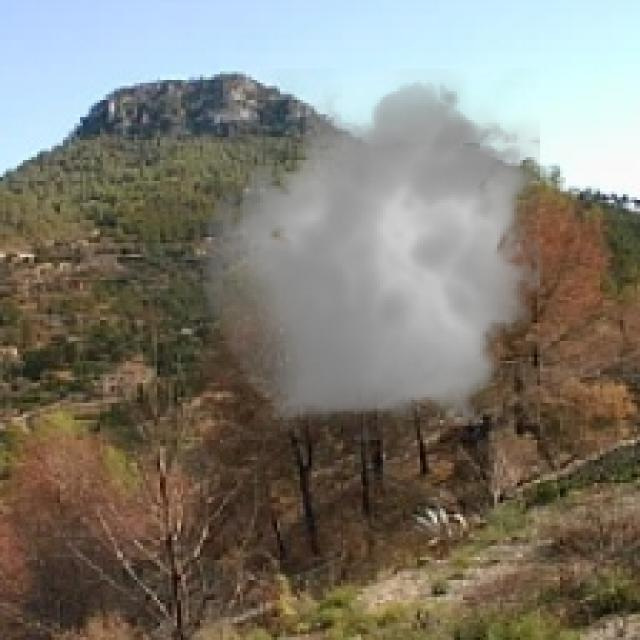smoke: (192, 69, 557, 440)
